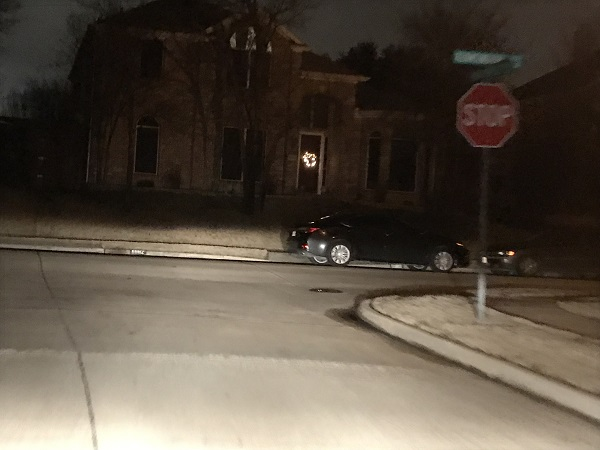car: (288, 208, 471, 269), (487, 232, 597, 279)
stop sign: (451, 79, 521, 149)
